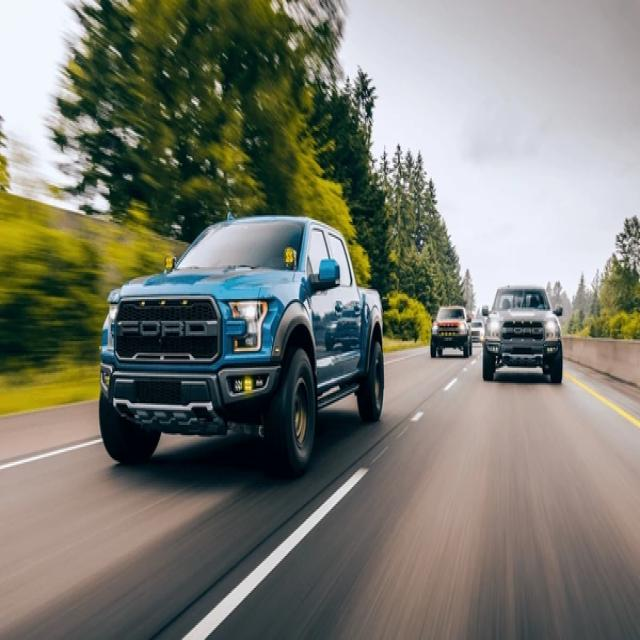ford: (112, 312, 221, 346)
